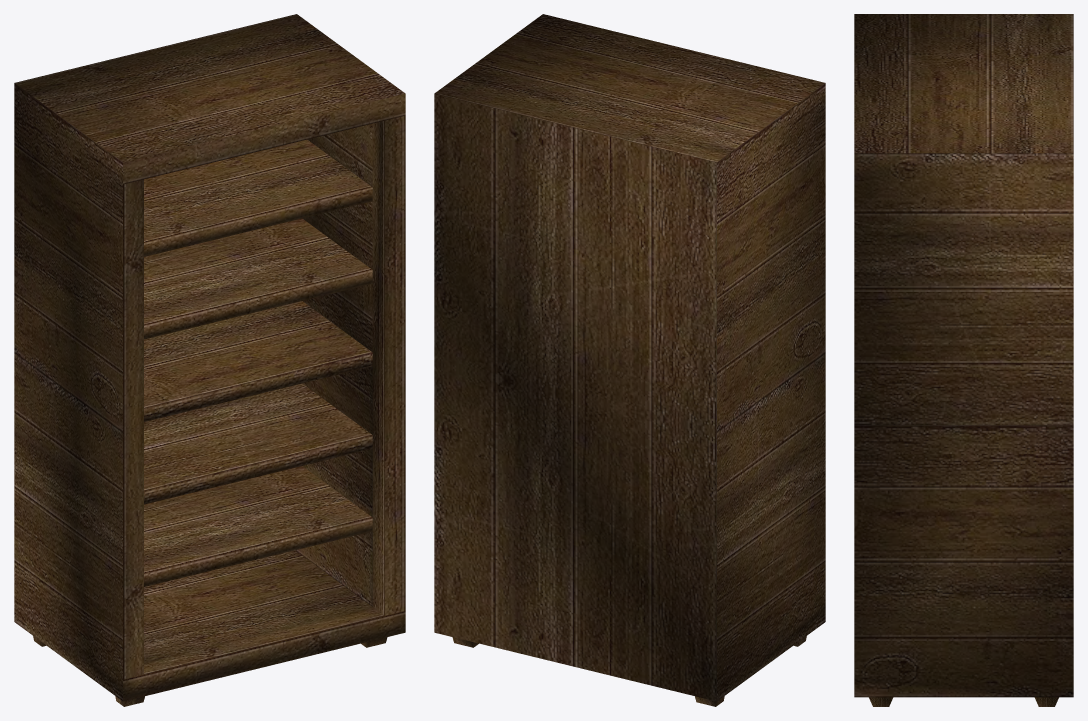
File: GS_FURNITURE_NORMAL_01_DRP.glb
3 renders of one model, left to right at view 1: azimuth 30°, elevation 25°; view 2: azimuth 150°, elevation 25°; view 3: azimuth 270°, elevation 25°, orthographic.
Parts seen in each view (by area): view 1: Mesh; view 2: Mesh; view 3: Mesh.
Boxes of the visible parts, x1,y1,x2,y2 form: Mesh: (14,14,405,706); Mesh: (434,14,825,706); Mesh: (854,14,1073,706).
Bounding box in the file's own units: 1.35 × 2.53 × 0.9.
1 material, 1 textured.
